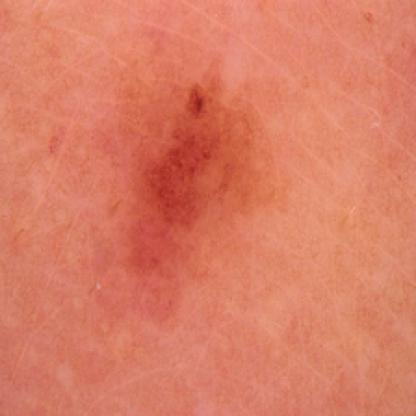benign: (113, 86, 268, 278)
